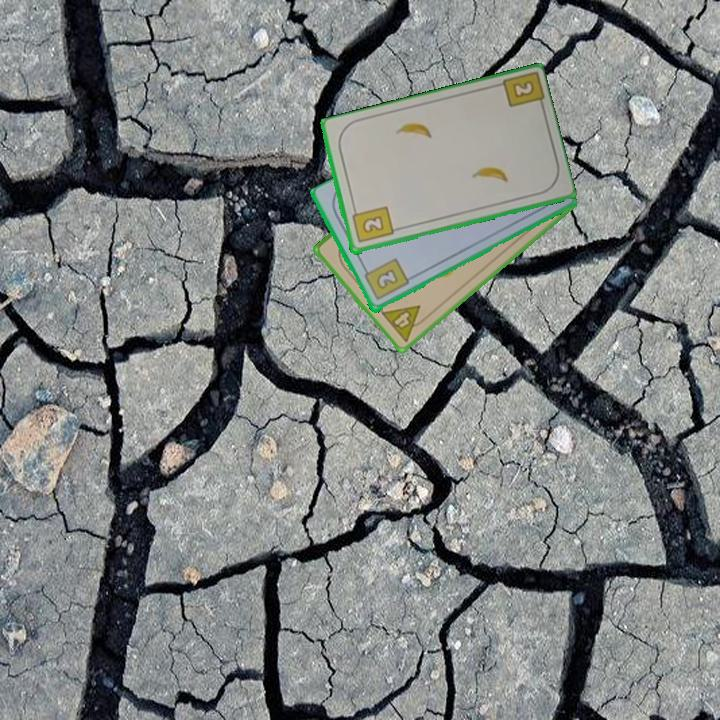2b: (359, 255, 412, 304), (348, 203, 396, 246), (509, 77, 537, 101)
4p: (377, 302, 432, 345)
